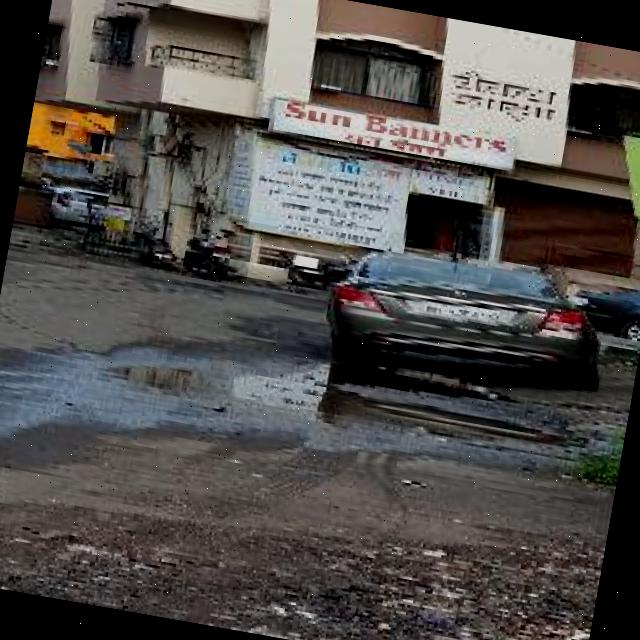stagnation: (0, 324, 592, 480)
